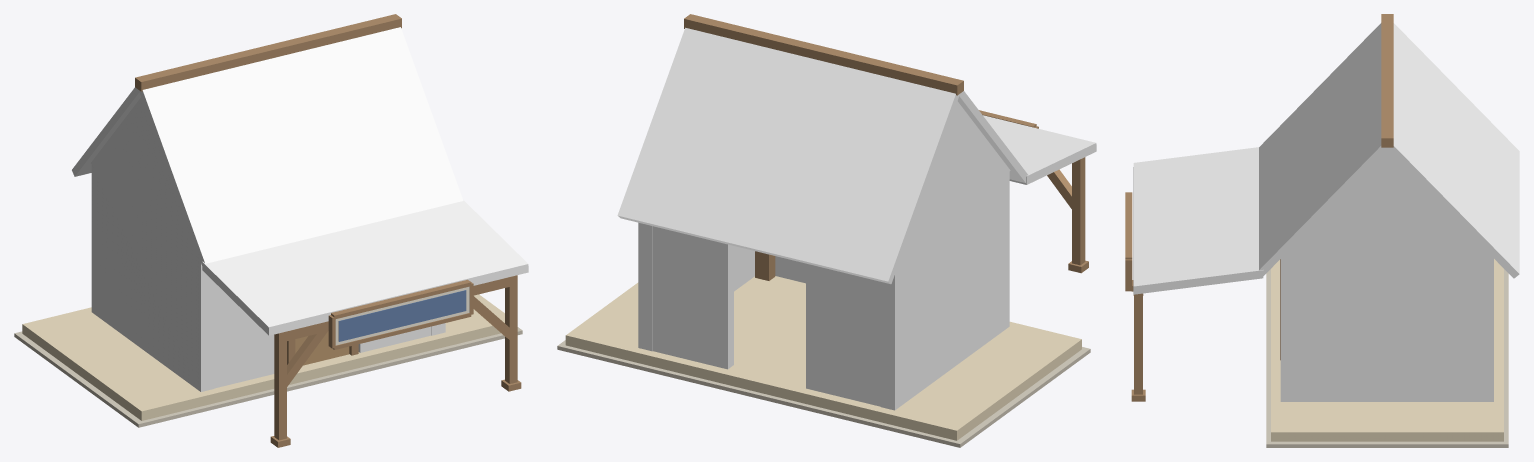
The model's file is station-hut-2.glb.
3 views of the same model, side by side, from view 1: azimuth 30°, elevation 25°; view 2: azimuth 150°, elevation 25°; view 3: azimuth 270°, elevation 25° (orthographic). The views are drawn at different scales.
Parts seen in each view (by area): view 1: Roof_Panel_R, Canopy_Roof, Wall_Left, Station_Platform, Gable_Back, Wall_Front_L, Roof_Ridge, Platform_Trim, Sign_Panel, Canopy_Pillar_L, Canopy_Pillar_R, Roof_Panel_L (+8 smaller); view 2: Roof_Panel_L, Station_Platform, Wall_Left, Wall_Back_R, Wall_Back_L, Gable_Back, Roof_Ridge, Platform_Trim, Canopy_Roof, Wall_Right, Canopy_Pillar_L, Roof_Panel_R (+2 smaller); view 3: Wall_Right, Roof_Panel_L, Canopy_Roof, Roof_Panel_R, Station_Platform, Gable_Front, Platform_Trim, Roof_Ridge, Canopy_Pillar_R, Sign_Border_T.
Boxes of the visible parts, bbox=[...] form: Roof_Panel_R: bbox=[139, 27, 463, 265]; Canopy_Roof: bbox=[202, 200, 528, 335]; Wall_Left: bbox=[91, 164, 214, 391]; Station_Platform: bbox=[22, 294, 504, 420]; Gable_Back: bbox=[90, 97, 191, 236]; Wall_Front_L: bbox=[214, 282, 274, 388]; Roof_Ridge: bbox=[135, 14, 401, 91]; Platform_Trim: bbox=[14, 327, 522, 427]; Sign_Panel: bbox=[338, 290, 466, 341]; Canopy_Pillar_L: bbox=[274, 331, 286, 440]; Canopy_Pillar_R: bbox=[505, 275, 517, 383]; Roof_Panel_L: bbox=[72, 87, 140, 176]; Roof_Panel_L: bbox=[617, 27, 959, 284]; Station_Platform: bbox=[565, 276, 1081, 440]; Wall_Left: bbox=[880, 171, 1009, 410]; Wall_Back_R: bbox=[652, 226, 733, 369]; Wall_Back_L: bbox=[806, 263, 880, 406]; Gable_Back: bbox=[904, 101, 1010, 247]; Roof_Ridge: bbox=[684, 14, 963, 95]; Platform_Trim: bbox=[557, 340, 1090, 447]; Canopy_Roof: bbox=[983, 115, 1096, 184]; Wall_Right: bbox=[638, 222, 754, 351]; Canopy_Pillar_L: bbox=[1072, 157, 1085, 265]; Roof_Panel_R: bbox=[957, 91, 1027, 182]; Wall_Right: bbox=[1280, 257, 1493, 401]; Roof_Panel_L: bbox=[1386, 23, 1519, 278]; Canopy_Roof: bbox=[1133, 147, 1263, 294]; Roof_Panel_R: bbox=[1259, 23, 1389, 275]; Station_Platform: bbox=[1271, 259, 1503, 441]; Gable_Front: bbox=[1282, 150, 1492, 257]; Platform_Trim: bbox=[1266, 269, 1508, 447]; Roof_Ridge: bbox=[1381, 14, 1393, 147]; Canopy_Pillar_R: bbox=[1134, 293, 1142, 394]; Sign_Border_T: bbox=[1125, 192, 1132, 259].
Bounding box in the file's own units: 6.69 × 4.79 × 6.1.
